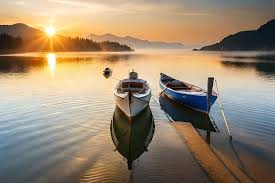boat: (158, 72, 218, 115), (114, 69, 152, 121), (103, 66, 114, 75)
